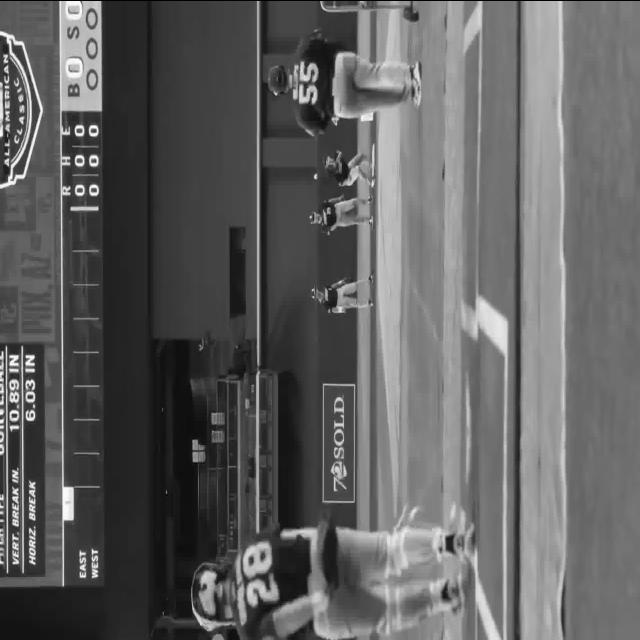base: (371, 135, 377, 183)
baseball: (314, 173, 318, 180)
shoe: (442, 574, 466, 614), (452, 522, 475, 562), (412, 80, 422, 108), (410, 61, 420, 81), (368, 271, 373, 285), (369, 215, 374, 229), (370, 175, 375, 188), (367, 194, 373, 204), (368, 298, 373, 306)
